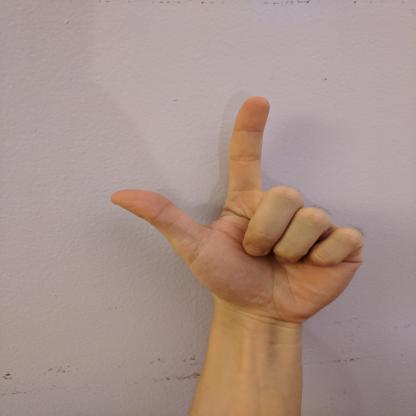L: (105, 93, 374, 328)
